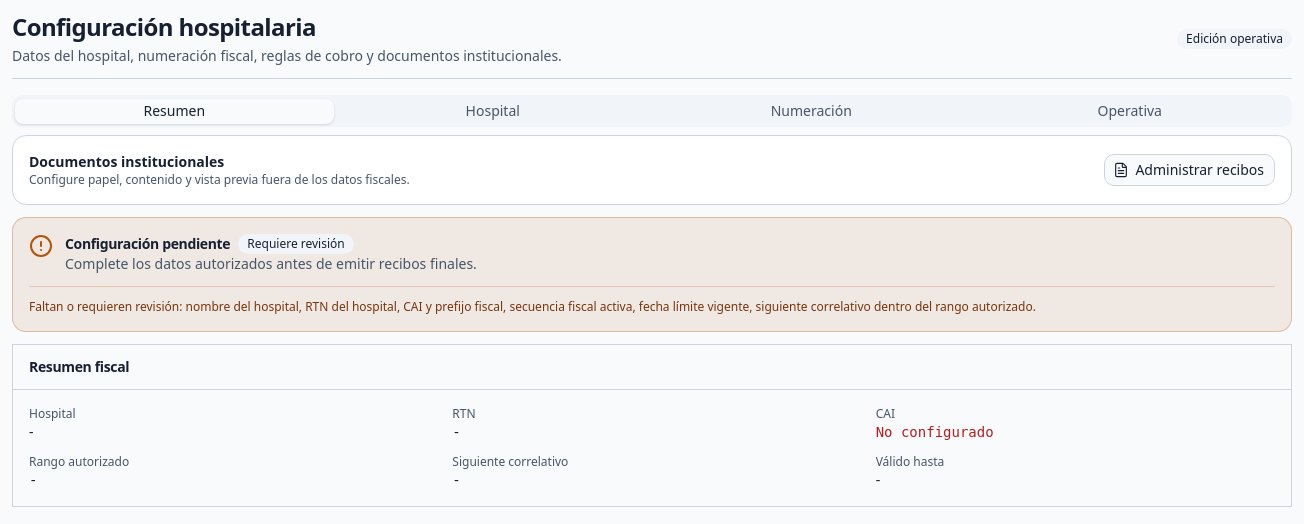
FiscalSettingsView (separated sections) › allows editing only operational rules with the operational settings permission
The image size is (1304, 524).
Press the mouse on the tab "Operativa" at (1130, 111), box [970,98,1289,124]
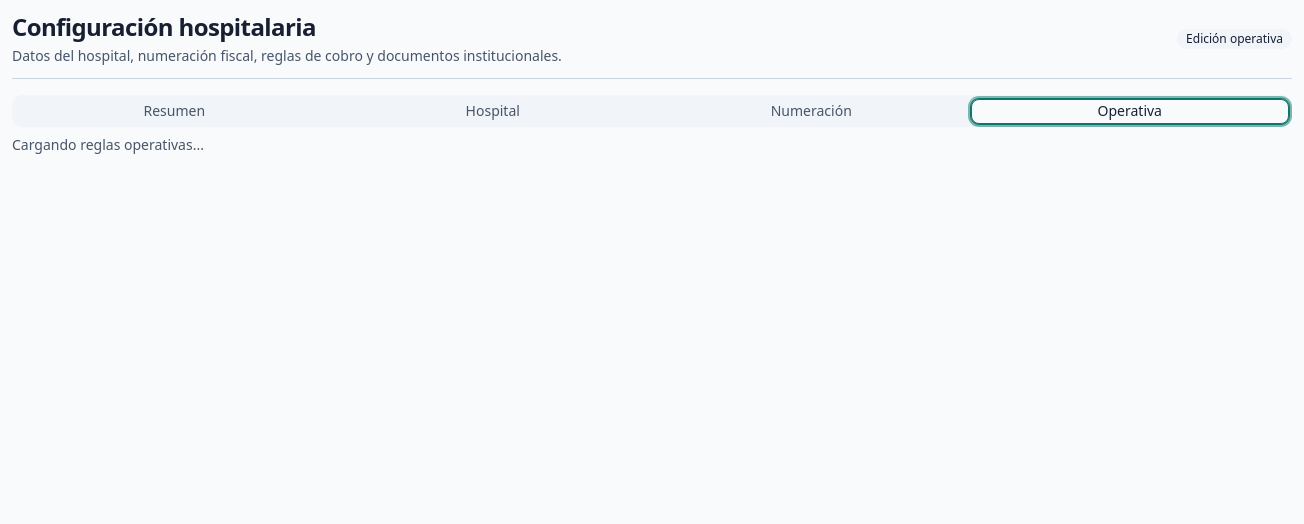
Click the tab "Operativa".
click(1130, 111)  # box [970,98,1289,124]
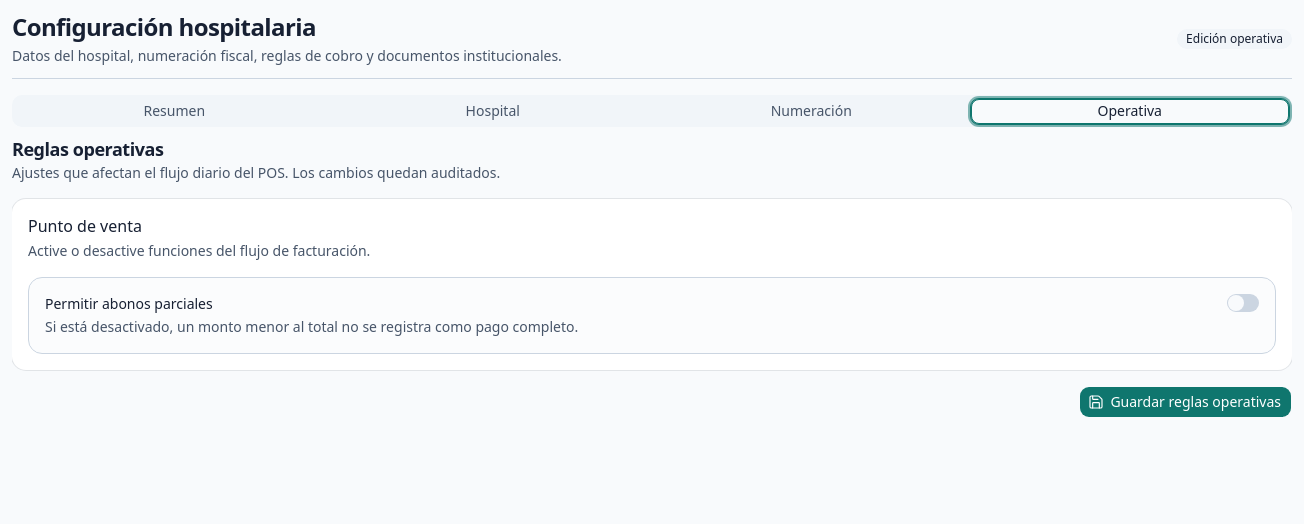
Expected: the text "Edición operativa" is shown, [1177,29,1292,49]
Now the switch named "permitir abonos parciales" is enabled, box [1227,294,1259,312]
Now the button "Guardar reglas operativas" is enabled, box [1079,386,1292,418]
